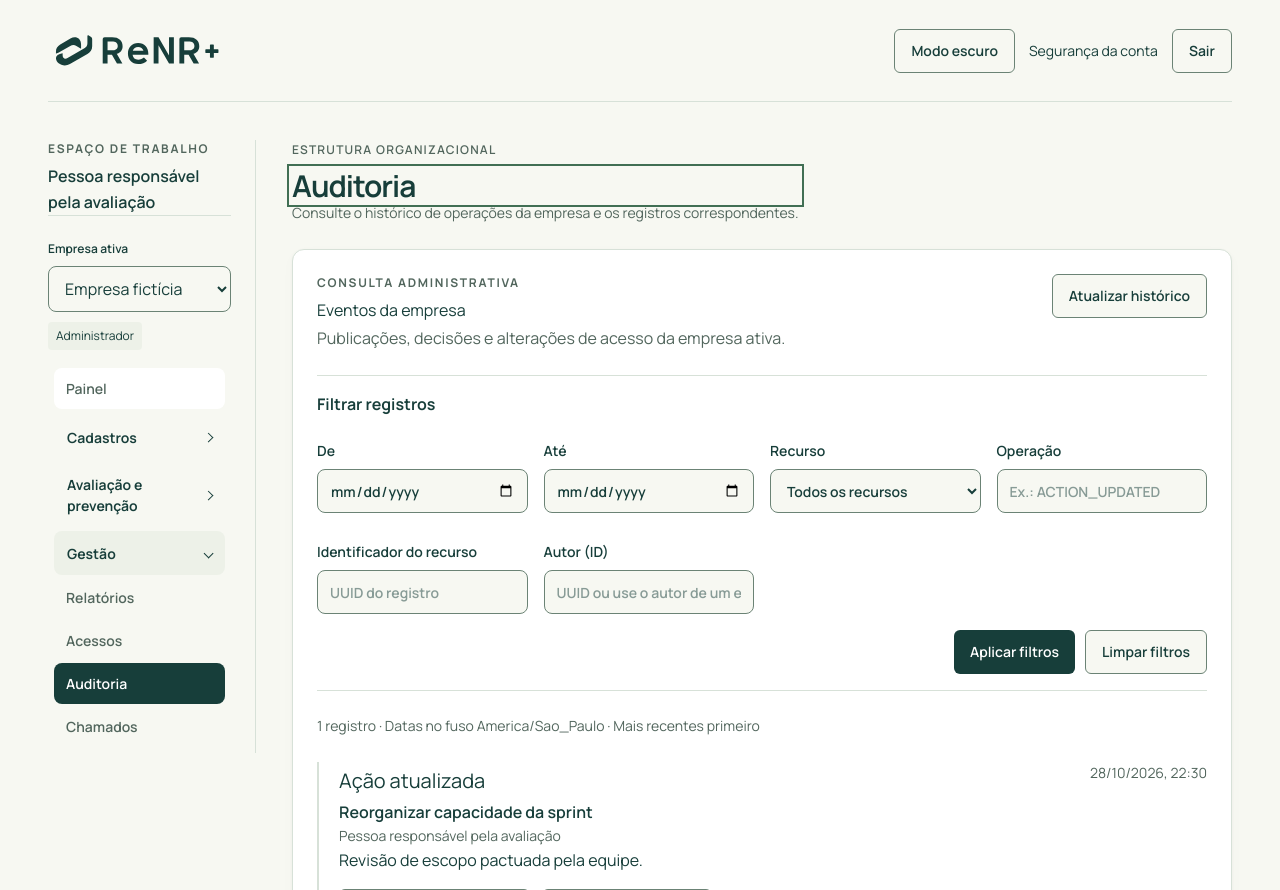
Scenario: consulta auditoria em fuso organizacional e abre a revisão exata preservando os filtros e o foco
Check: the heading "Auditoria" is shown, box 292,165 -> 415,206
Check: the text "Revisão de escopo pactuada pela equipe." is shown, box 339,848 -> 643,870
In the field labelled "Operação": coordinates (1102, 491) 996,469 -> 1207,513, type "ACTION_UPDATED"
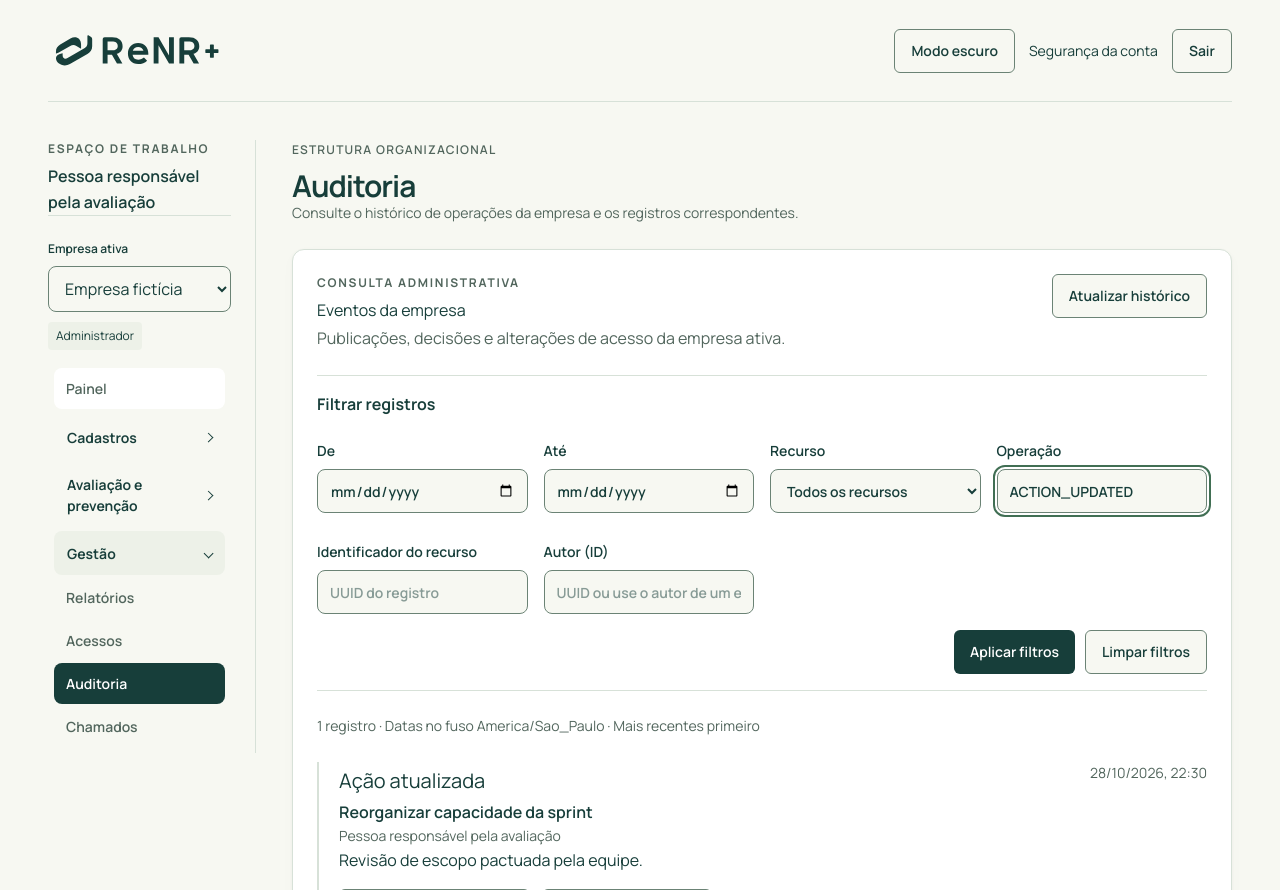
Click the button "Aplicar filtros": coordinates (1014, 652) 954,630 -> 1075,674
(page scrolled)
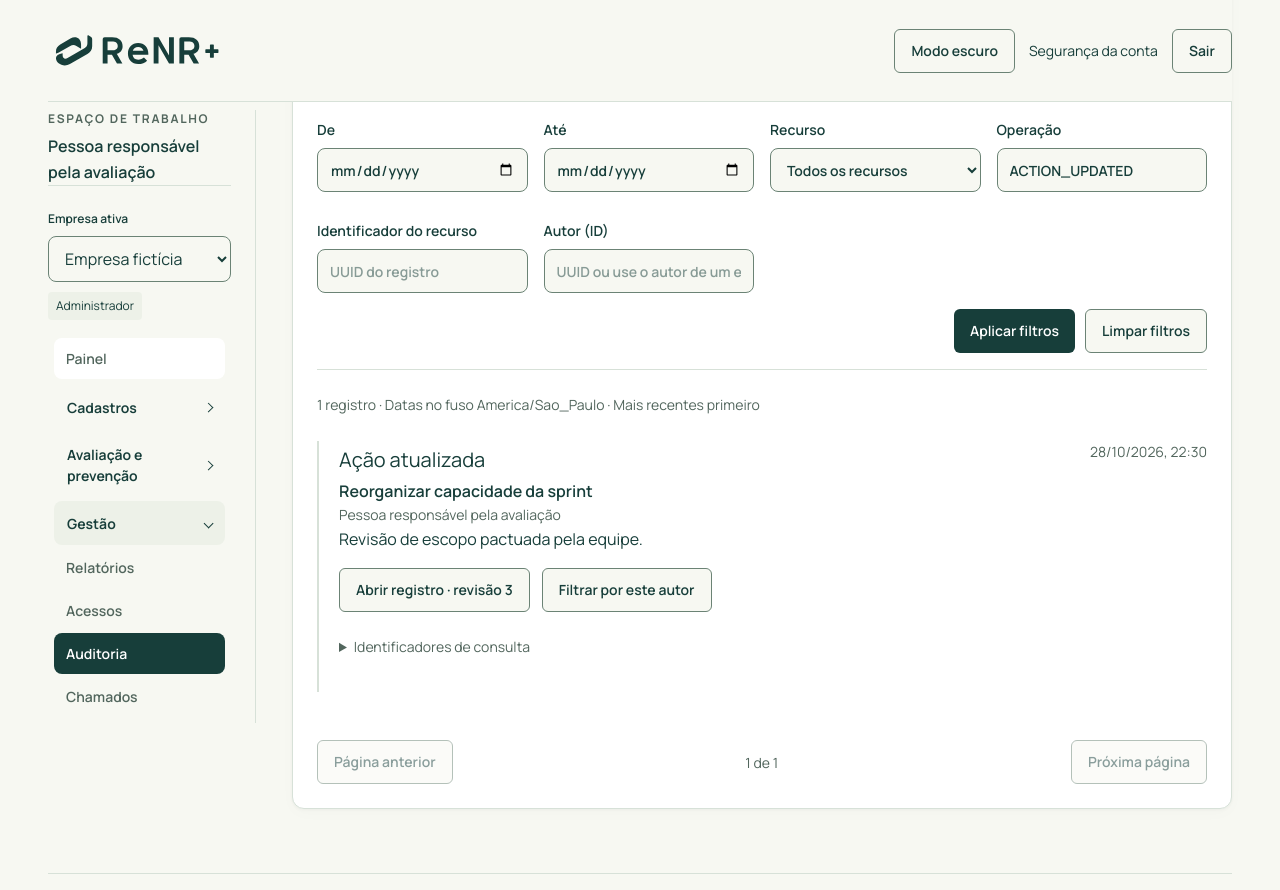
Click the button "Abrir registro · revisão 3": coordinates (434, 590) 339,568 -> 530,612
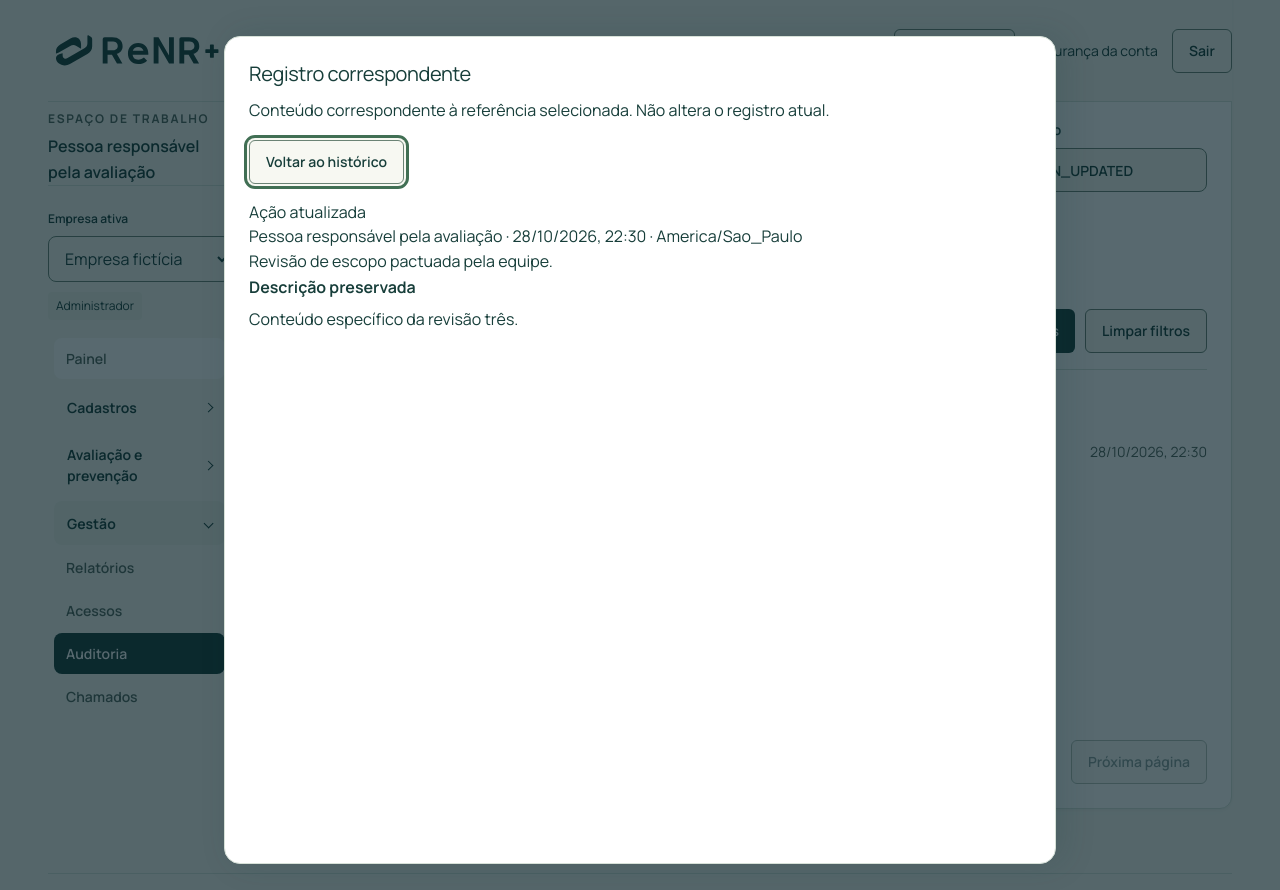
Check: the text "Conteúdo específico da revisão três." is shown, box 249,308 -> 518,330
Press Escape
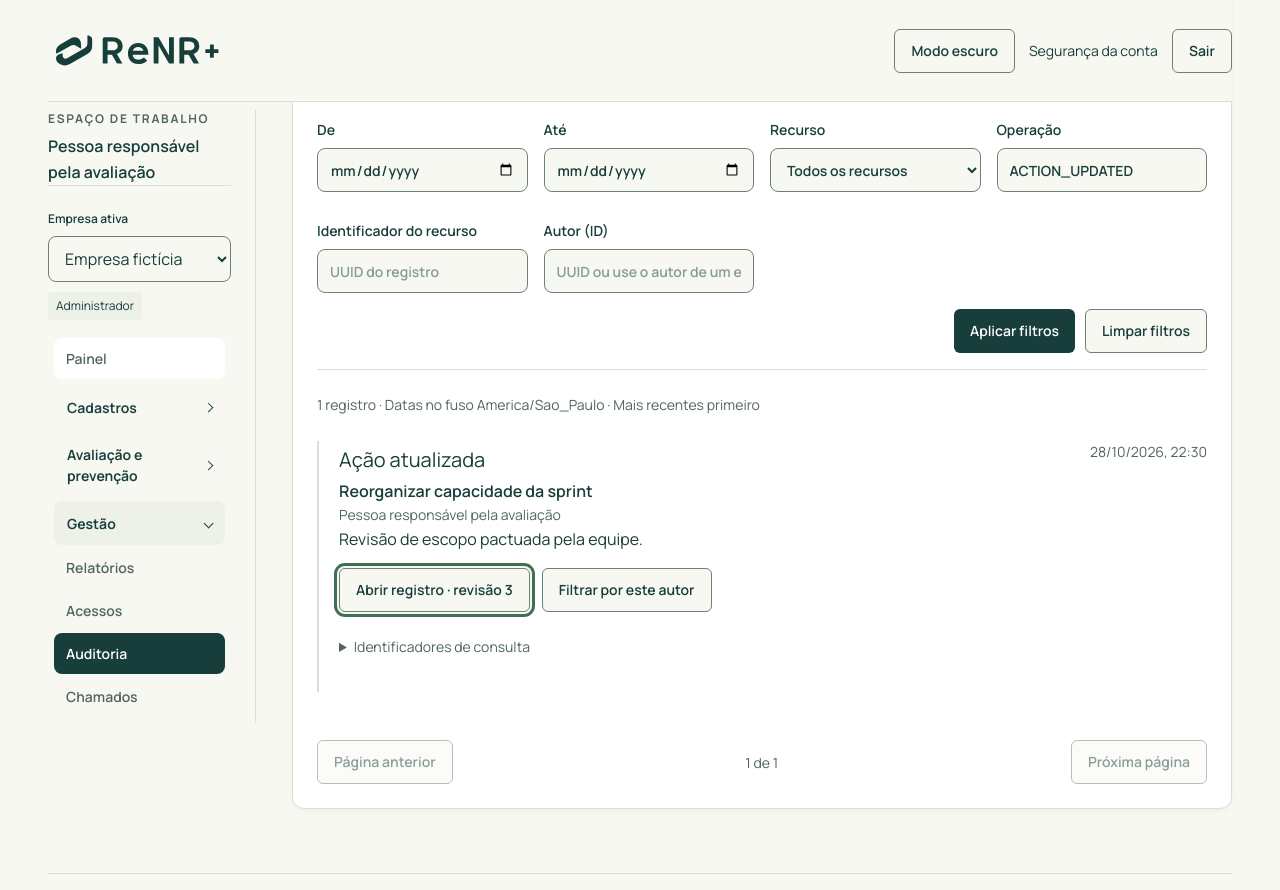
Check: the dialog is gone
